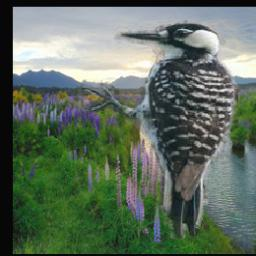Woodpecker: (75, 20, 243, 239)
